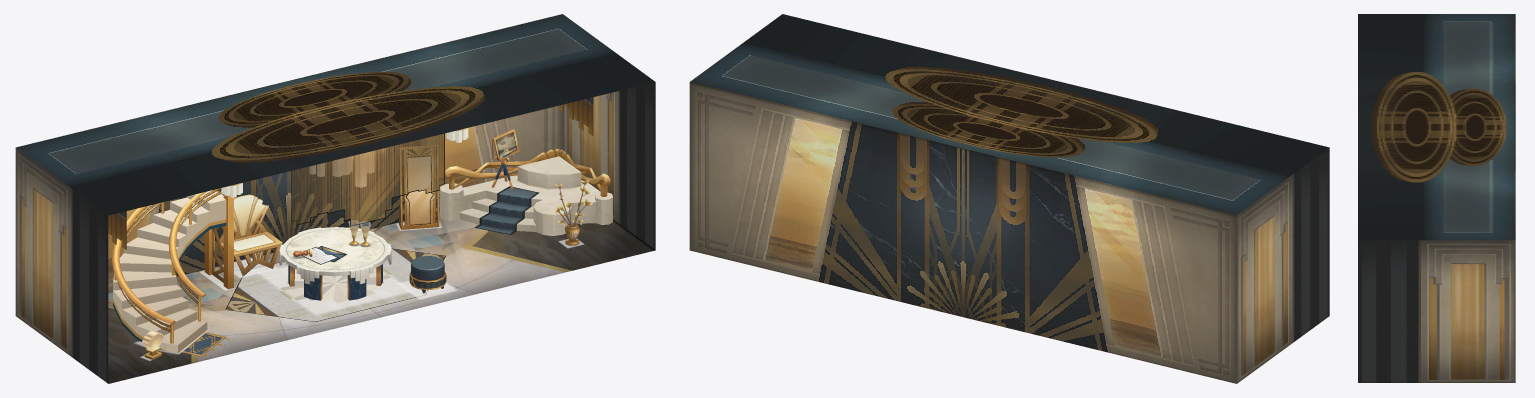
Rendered from goldBoat.glb.
The picture shows the model from 3 angles, left to right: view 1: azimuth 30°, elevation 25°; view 2: azimuth 150°, elevation 25°; view 3: azimuth 270°, elevation 25°; orthographic projection. The views are drawn at different scales.
Parts seen in each view (by area): view 1: ROOM_room, ROOM_floor, furni_goldBoat_stairs_01, furni_goldBoat_paintingArea_01, furni_goldBoat_ceilingDeco_L_02, furni_goldBoat_carpet_L_01, furni_goldBoat_table_01, shadow_01.004, furni_goldBoat_mirror_01, furni_goldBoat_chair_01, ROOM_LDoor, ROOM_RDoor (+6 smaller); view 2: ROOM_room, ROOM_LDoor; view 3: ROOM_room, ROOM_RDoor, shadow_01.006.
Boxes of the visible parts, <box> form: ROOM_room: <box>15,14,655,383</box>; ROOM_floor: <box>108,212,655,383</box>; furni_goldBoat_stairs_01: <box>112,190,233,359</box>; furni_goldBoat_paintingArea_01: <box>440,129,612,235</box>; furni_goldBoat_ceilingDeco_L_02: <box>291,133,444,226</box>; furni_goldBoat_carpet_L_01: <box>225,248,445,321</box>; furni_goldBoat_table_01: <box>279,226,391,300</box>; shadow_01.004: <box>257,265,412,315</box>; furni_goldBoat_mirror_01: <box>399,145,439,229</box>; furni_goldBoat_chair_01: <box>219,194,282,275</box>; ROOM_LDoor: <box>75,283,94,373</box>; ROOM_RDoor: <box>623,150,641,239</box>; ROOM_room: <box>689,14,1329,383</box>; ROOM_LDoor: <box>1297,249,1315,339</box>; ROOM_room: <box>1358,14,1515,382</box>; ROOM_RDoor: <box>1381,318,1413,382</box>; shadow_01.006: <box>1423,332,1520,383</box>.
Size of the model in its own units: 7.52 by 2.2 by 2.28.
Materials: 7 (7 with a texture image).
